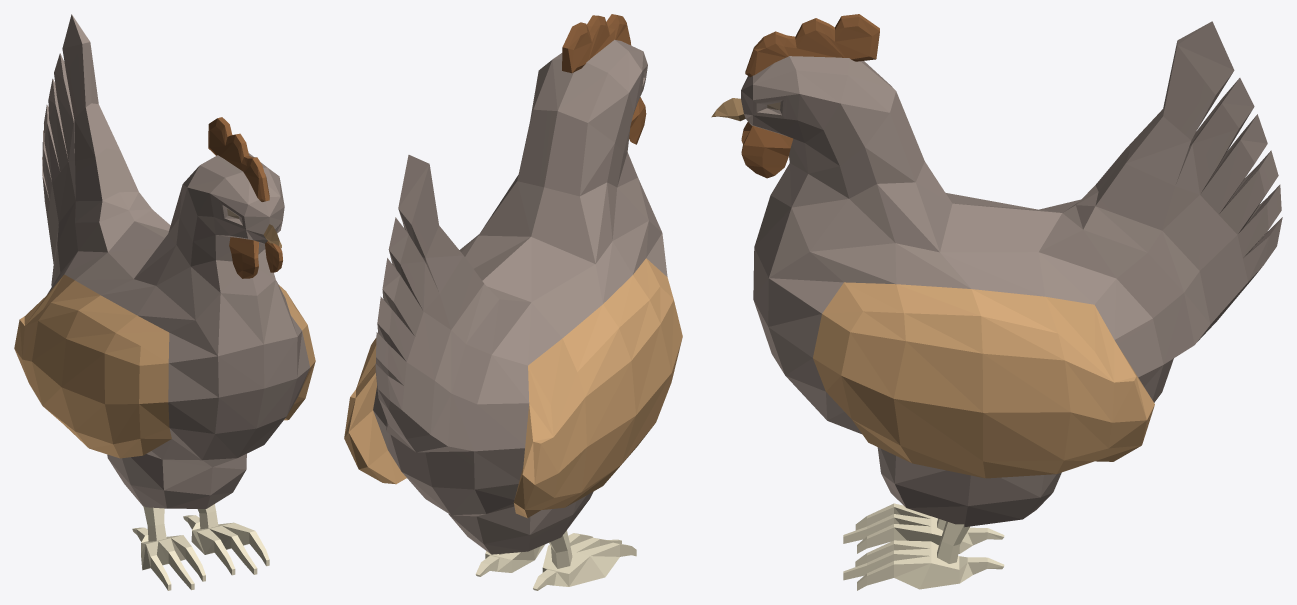
File: hen_a.gltf
3 renders of one model, left to right at view 1: azimuth 30°, elevation 25°; view 2: azimuth 150°, elevation 25°; view 3: azimuth 270°, elevation 25°, orthographic. The views are drawn at different scales.
Visible parts, largest first — view 1: hen_a001; view 2: hen_a001; view 3: hen_a001.
Part boxes in pixels (x1=…): hen_a001: x1=14, y1=14, x2=315, y2=590; hen_a001: x1=344, y1=14, x2=682, y2=590; hen_a001: x1=711, y1=14, x2=1282, y2=590.
Bounding box in the file's own units: 0.3082 × 0.6365 × 0.6026.
1 material, 1 textured.
